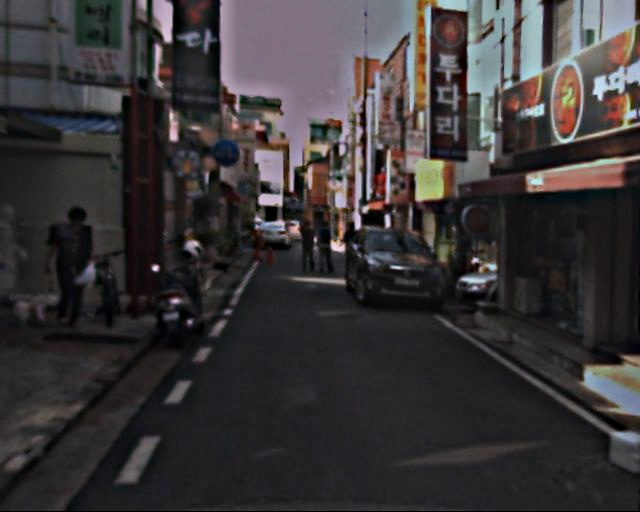person: (49, 203, 109, 331), (1, 203, 25, 330), (315, 220, 338, 275), (340, 221, 362, 275), (297, 221, 319, 274)
